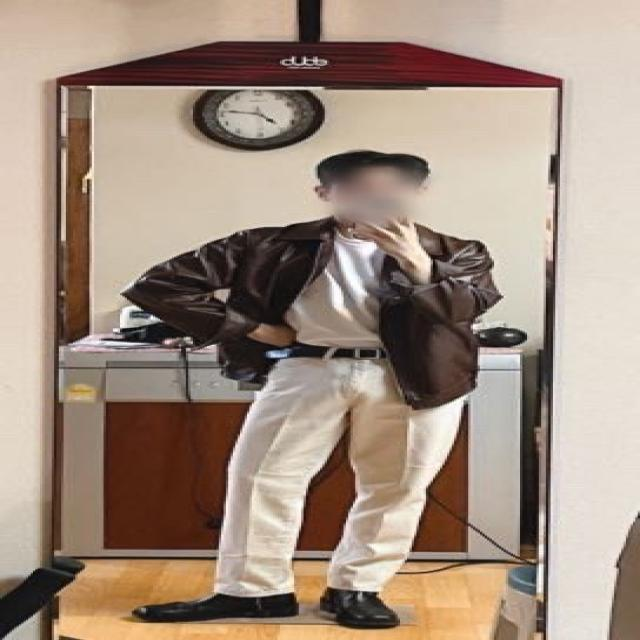cottonpants: (216, 345, 464, 593)
jacket: (120, 218, 505, 408)
